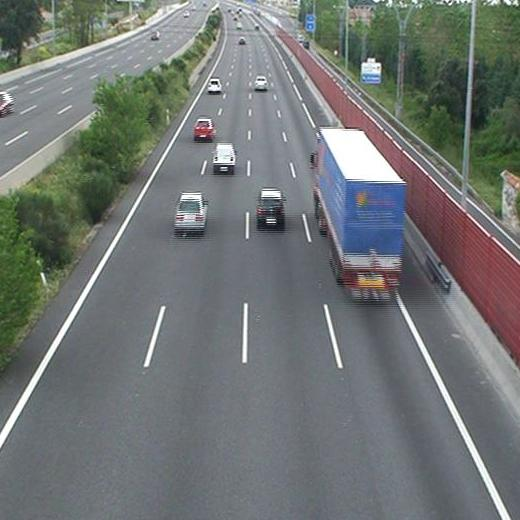car: (174, 192, 207, 232), (257, 190, 283, 224), (213, 143, 236, 171), (194, 118, 214, 139), (207, 79, 222, 93), (254, 76, 267, 90)
truck: (312, 129, 405, 300)
